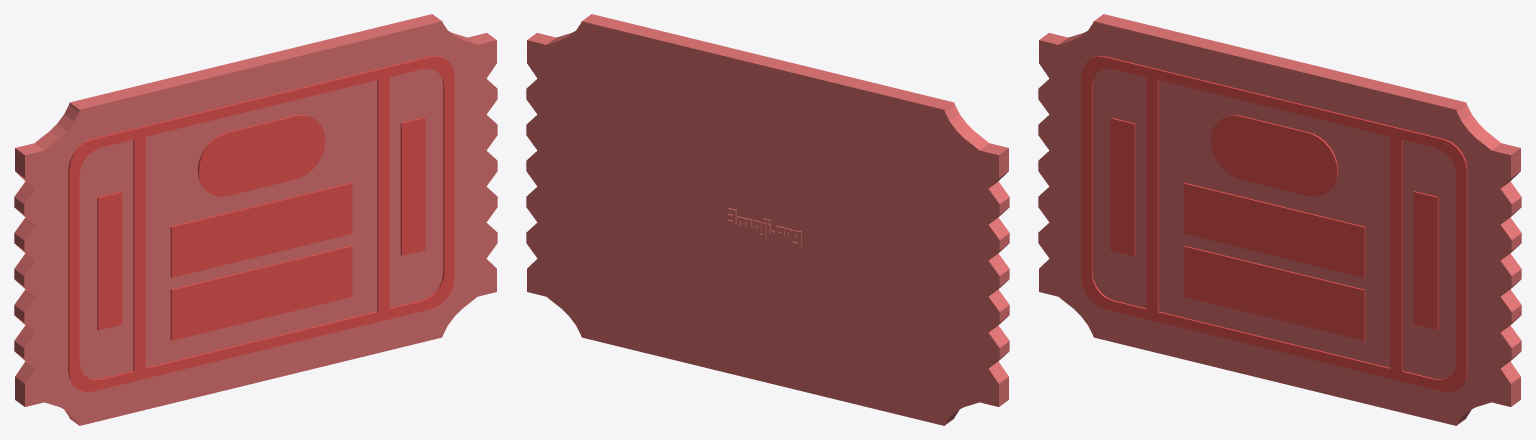
File: admission_tickets.gltf
The picture shows the model from 3 angles, left to right: view 1: azimuth 30°, elevation 25°; view 2: azimuth 150°, elevation 25°; view 3: azimuth 330°, elevation 25°; orthographic projection.
Parts seen in each view (by area): view 1: Cube.806; view 2: Cube.806; view 3: Cube.806.
Part boxes in pixels (x1=…): Cube.806: x1=14, y1=14, x2=497, y2=425; Cube.806: x1=526, y1=14, x2=1009, y2=425; Cube.806: x1=1038, y1=14, x2=1521, y2=425.
Size of the model in its own units: 2.25 by 1.43 by 0.0973.
1 material, 1 textured.
